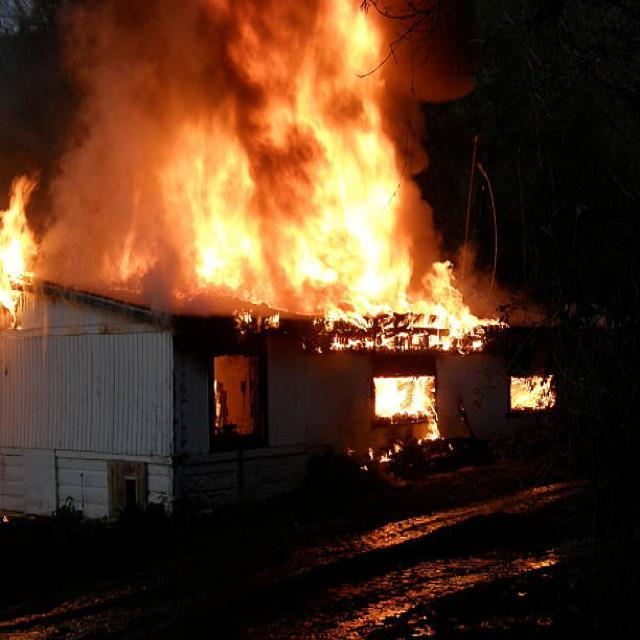Fire: (261, 14, 479, 360), (159, 176, 299, 311), (0, 178, 48, 302)
Smoke: (61, 0, 240, 277)
